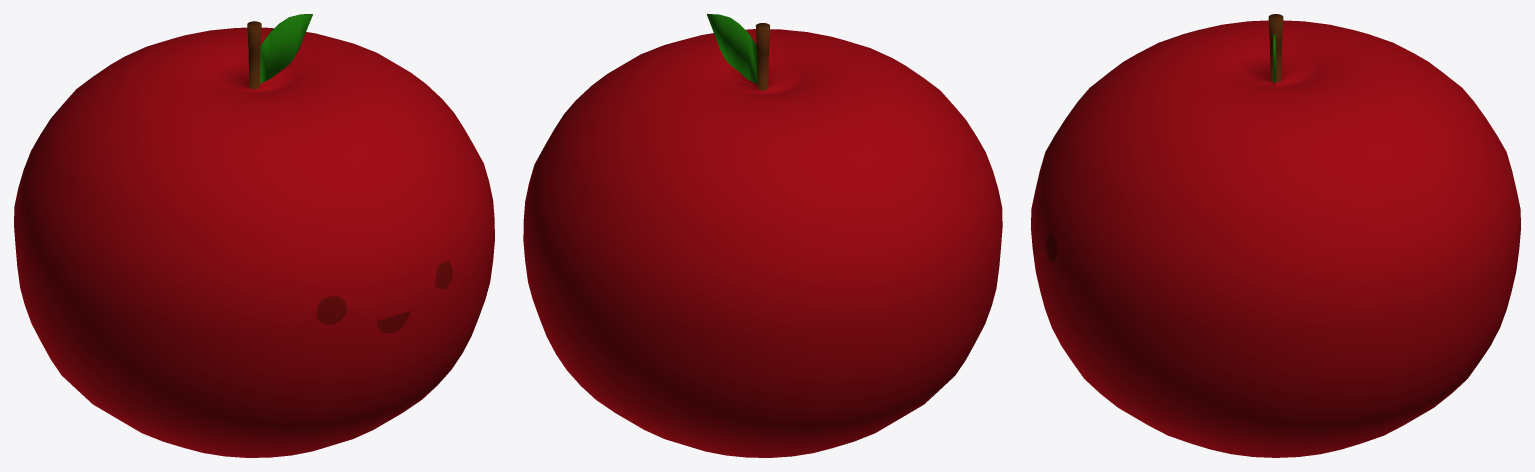
File: Apple.fbx
The picture shows the model from 3 angles, left to right: view 1: azimuth 30°, elevation 25°; view 2: azimuth 150°, elevation 25°; view 3: azimuth 270°, elevation 25°; orthographic projection. The views are drawn at different scales.
Visible parts, largest first — view 1: Sphere; view 2: Sphere; view 3: Sphere.
Part boxes in pixels (left/top/right/bottom): Sphere: left=14, top=14, right=494, bottom=457; Sphere: left=523, top=14, right=1002, bottom=457; Sphere: left=1031, top=14, right=1520, bottom=457.
Bounding box in the file's own units: 232 × 214 × 232.
